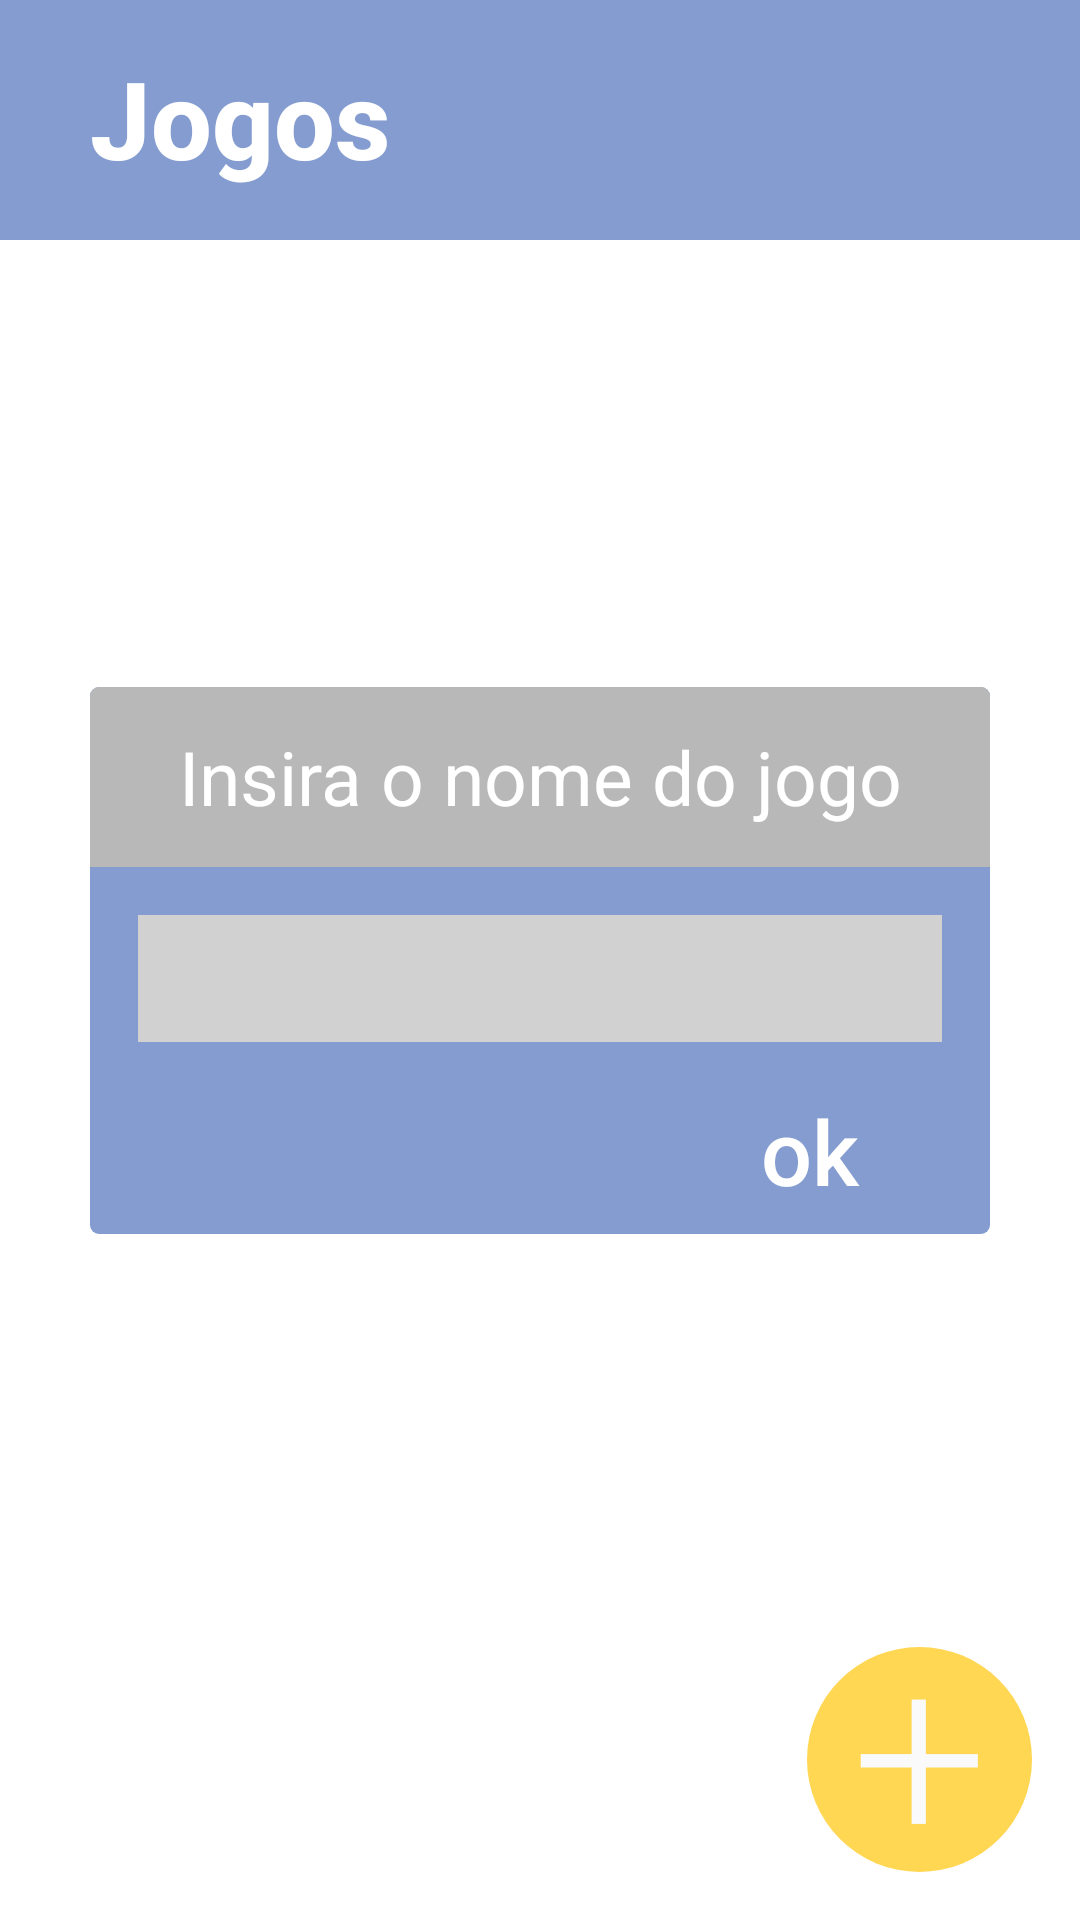

Where to tap for icons on this 1080px×1920px app screen, as point (x, y):
circulo amarelo: point (919, 1759)
